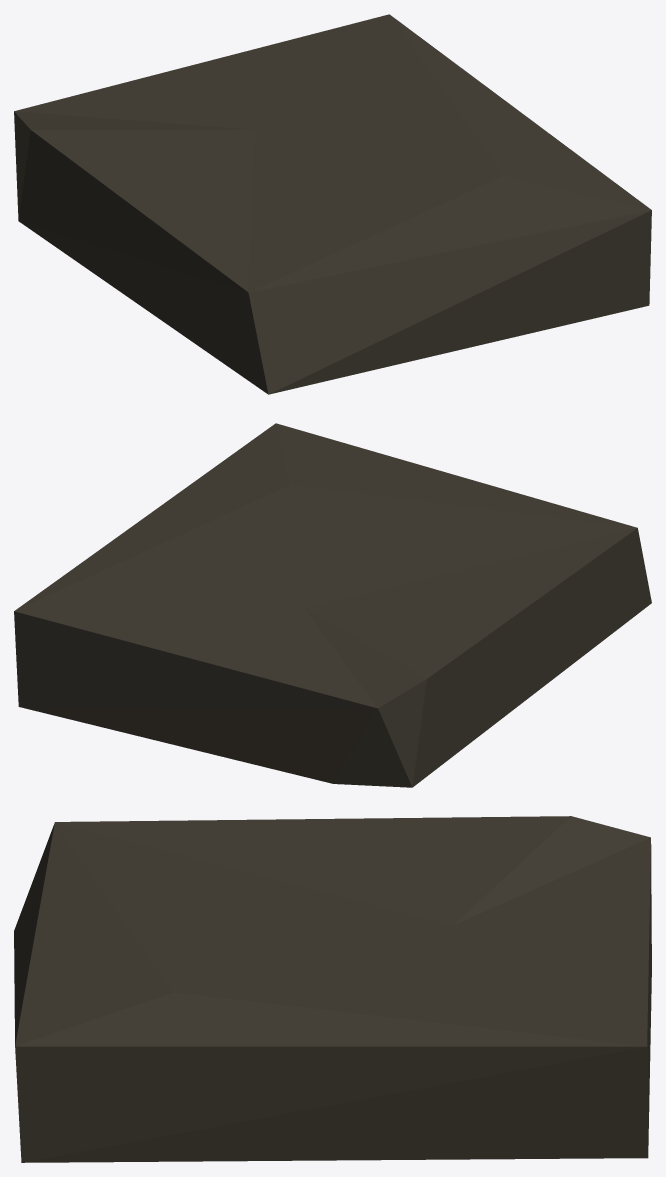
Rendered from Brick_Single_1.fbx.
The picture shows the model from 3 angles, top to bottom: view 1: azimuth 30°, elevation 25°; view 2: azimuth 150°, elevation 25°; view 3: azimuth 270°, elevation 25°; orthographic projection. The views are drawn at different scales.
Parts seen in each view (by area): view 1: Group22088; view 2: Group22088; view 3: Group22088.
Part boxes in pixels (bbox=[...]): Group22088: bbox=[14, 14, 651, 394]; Group22088: bbox=[14, 423, 651, 787]; Group22088: bbox=[14, 816, 651, 1162].
Size of the model in its own units: 1.72 by 0.4351 by 2.05.
